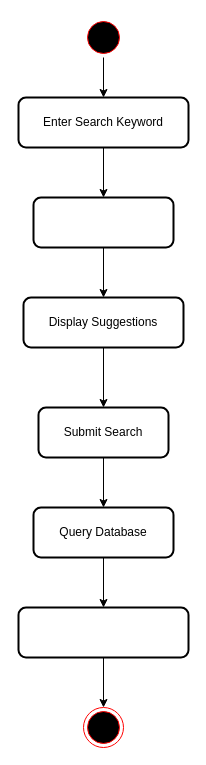
The diagram is 206 pixels wide and 765 high, and some of its shapes have lost their labels. The shapes that lost their labels are listed below. From the top down, each one's centre as x and y in pixels, then its label:
[103,222]: Call Search API
[103,632]: Display Search Results
